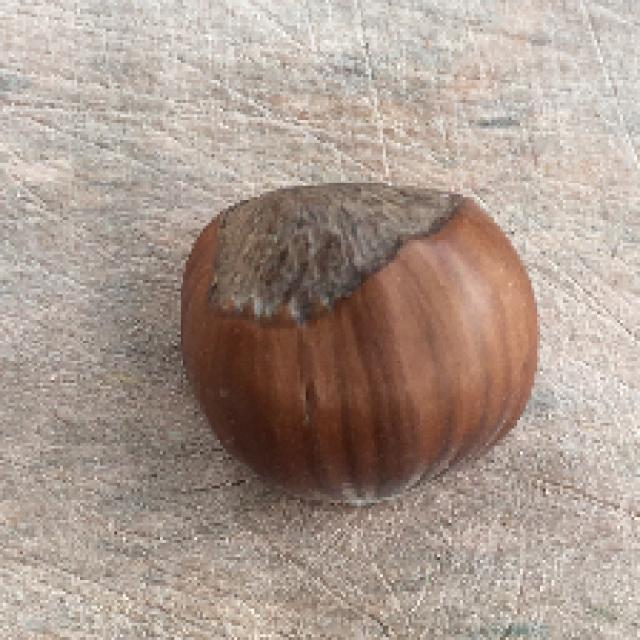damagedHazelnut: (175, 178, 556, 512)
